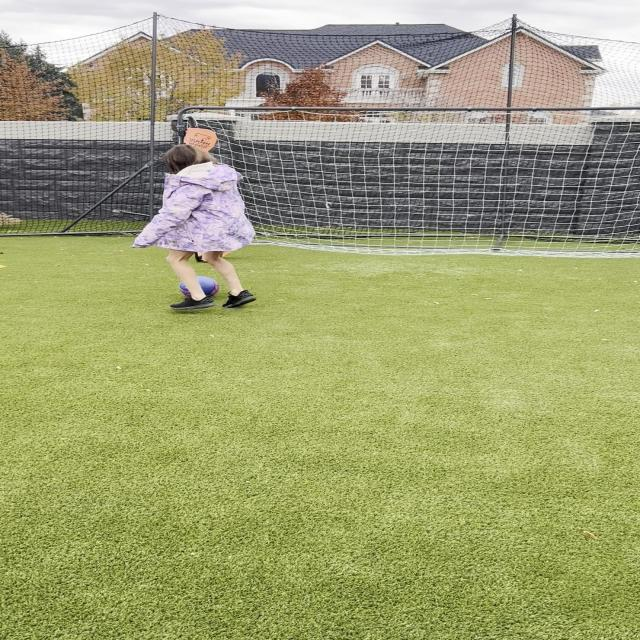Soccer Ball: (180, 276, 219, 298)
